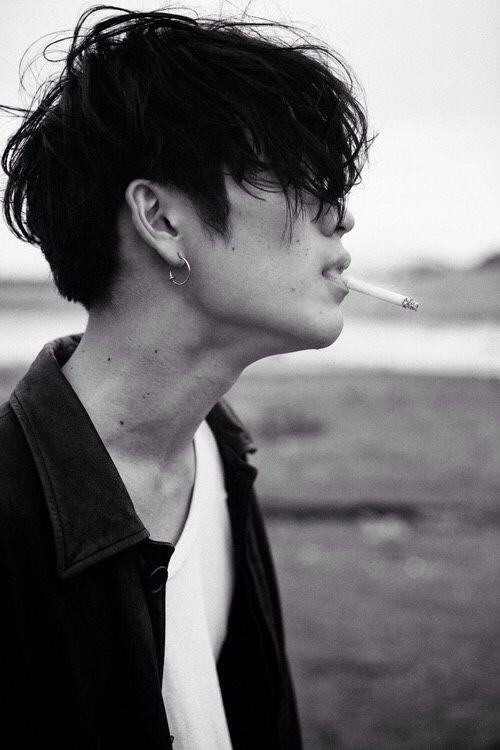cigarette: (336, 273, 420, 312)
